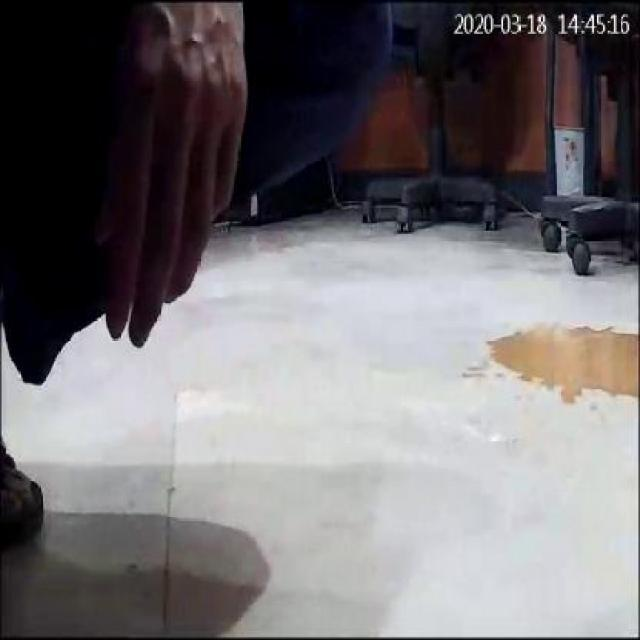spill: (476, 314, 636, 408)
